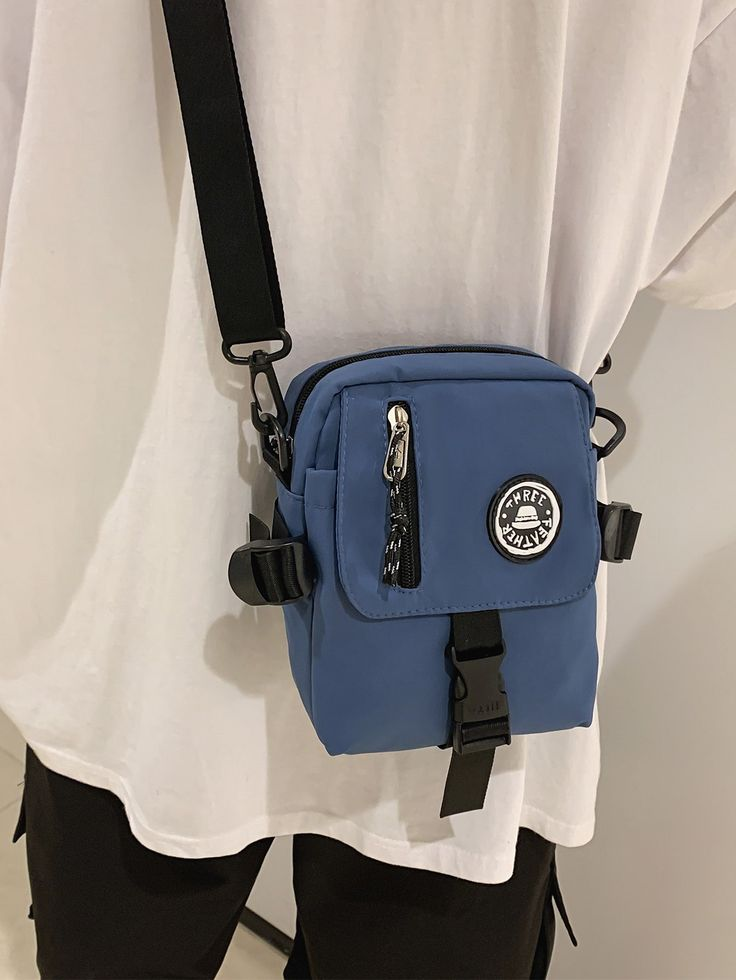nylon: (267, 344, 602, 757)
